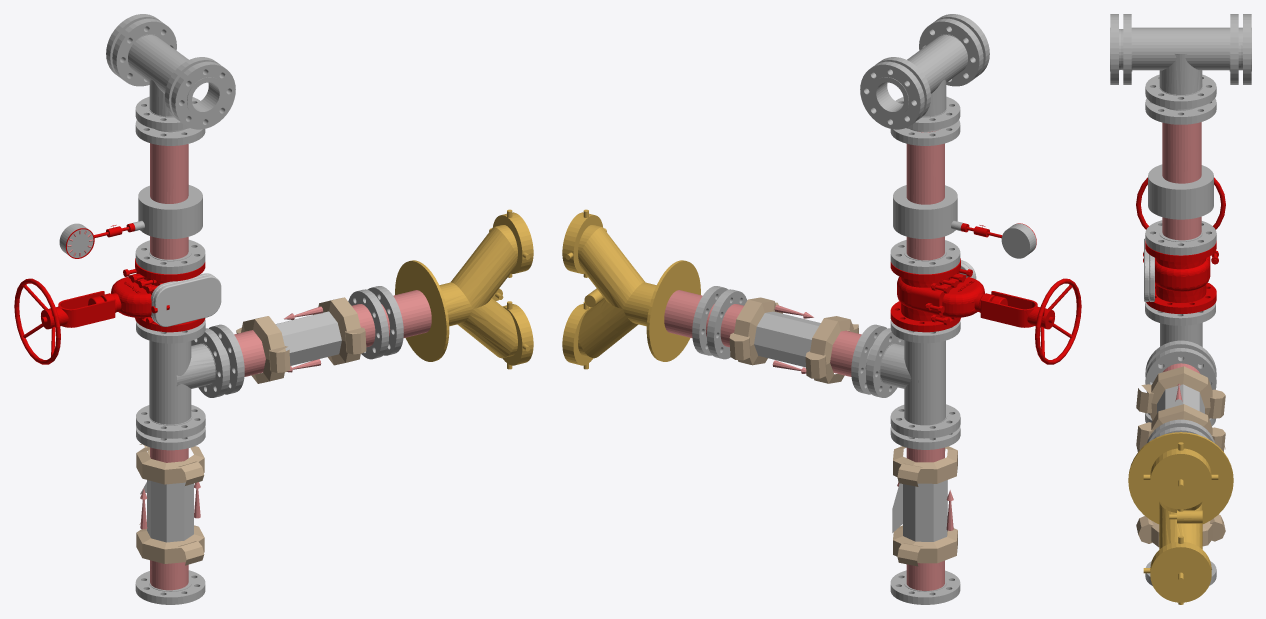
The model's file is siamesa.glb.
3 views of the same model, side by side, from view 1: azimuth 30°, elevation 25°; view 2: azimuth 150°, elevation 25°; view 3: azimuth 270°, elevation 25° (orthographic).
Parts seen in each view (by area): view 1: n37_p0_248_153_30, n3_p0_204_153_102, n9_p0_255_0_0, n4_p0_192_192_192, n43_p0_255_92_92, n47_p0_173_173_173, n67_p0_173_173_173, n7_p0_214_214_214, n13_p0_255_92_92, n77_p0_173_173_173, n61_p0_173_173_173, n69_p0_173_173_173 (+16 smaller); view 2: n37_p0_248_153_30, n9_p0_255_0_0, n3_p0_204_153_102, n4_p0_192_192_192, n43_p0_255_92_92, n47_p0_173_173_173, n71_p0_173_173_173, n13_p0_255_92_92, n77_p0_173_173_173, n61_p0_173_173_173, n59_p0_173_173_173, n57_p0_173_173_173 (+14 smaller); view 3: n37_p0_248_153_30, n61_p0_173_173_173, n3_p0_204_153_102, n9_p0_255_0_0, n43_p0_255_92_92, n17_p0_248_153_30, n15_p0_248_153_30, n77_p0_173_173_173, n57_p0_173_173_173, n63_p0_173_173_173, n51_p0_173_173_173, n65_p0_173_173_173 (+12 smaller).
Boxes of the visible parts, <box> form: n37_p0_248_153_30: <box>395,225,517,361</box>; n3_p0_204_153_102: <box>136,297,366,565</box>; n9_p0_255_0_0: <box>14,258,205,364</box>; n4_p0_192_192_192: <box>140,311,341,542</box>; n43_p0_255_92_92: <box>150,143,188,590</box>; n47_p0_173_173_173: <box>149,340,215,424</box>; n67_p0_173_173_173: <box>171,61,235,129</box>; n7_p0_214_214_214: <box>151,273,221,326</box>; n13_p0_255_92_92: <box>234,290,431,376</box>; n77_p0_173_173_173: <box>138,185,202,238</box>; n61_p0_173_173_173: <box>128,35,188,116</box>; n69_p0_173_173_173: <box>112,18,176,86</box>; n37_p0_248_153_30: <box>578,225,700,361</box>; n9_p0_255_0_0: <box>890,258,1081,364</box>; n3_p0_204_153_102: <box>729,297,957,566</box>; n4_p0_192_192_192: <box>754,311,947,541</box>; n43_p0_255_92_92: <box>906,131,944,590</box>; n47_p0_173_173_173: <box>880,340,945,425</box>; n71_p0_173_173_173: <box>860,61,924,129</box>; n13_p0_255_92_92: <box>664,290,861,376</box>; n77_p0_173_173_173: <box>893,185,957,238</box>; n61_p0_173_173_173: <box>907,35,967,116</box>; n59_p0_173_173_173: <box>919,18,983,86</box>; n57_p0_173_173_173: <box>890,240,960,274</box>; n37_p0_248_153_30: <box>1128,432,1233,549</box>; n61_p0_173_173_173: <box>1132,27,1242,94</box>; n3_p0_204_153_102: <box>1136,366,1225,547</box>; n9_p0_255_0_0: <box>1136,177,1225,313</box>; n43_p0_255_92_92: <box>1162,122,1201,240</box>; n17_p0_248_153_30: <box>1150,448,1211,509</box>; n15_p0_248_153_30: <box>1150,542,1211,602</box>; n77_p0_173_173_173: <box>1148,164,1213,219</box>; n57_p0_173_173_173: <box>1145,220,1216,255</box>; n63_p0_173_173_173: <box>1145,74,1216,108</box>; n51_p0_173_173_173: <box>1145,348,1216,392</box>; n65_p0_173_173_173: <box>1145,98,1216,124</box>.
Size of the model in its own units: 1.32 by 1.41 by 0.3226.
